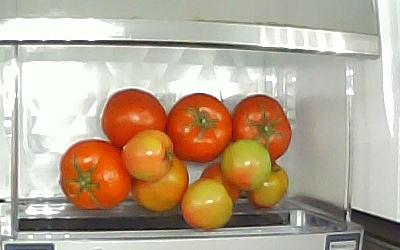tomato: (59, 139, 132, 211), (168, 93, 233, 163), (232, 93, 292, 161), (101, 88, 168, 148), (131, 152, 189, 213), (121, 129, 175, 183), (180, 178, 233, 231), (221, 139, 272, 194), (247, 161, 289, 208), (201, 163, 241, 203)
